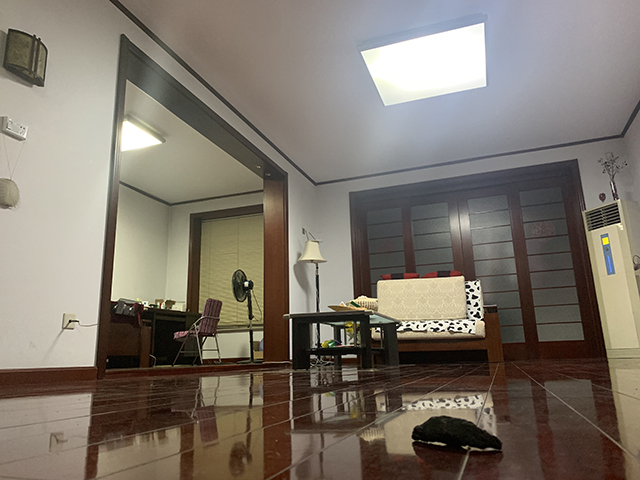bed: (107, 299, 154, 368)
feces: (411, 414, 504, 454)
sofa: (356, 269, 505, 366)
stool: (171, 297, 224, 367)
table: (283, 308, 402, 372), (143, 304, 205, 366)
wire: (262, 286, 335, 370)
